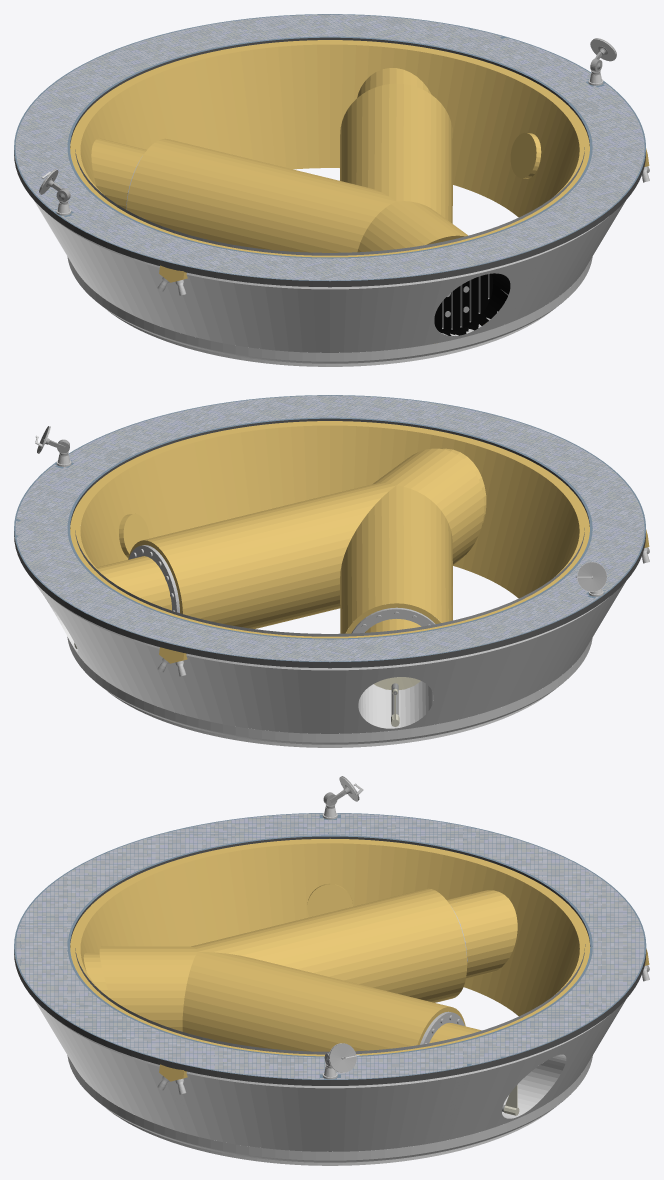
File: laser-interferometer-space-antenna-lisa.glb
3 views of the same model, one above another, from view 1: azimuth 30°, elevation 25°; view 2: azimuth 150°, elevation 25°; view 3: azimuth 270°, elevation 25° (orthographic).
Parts seen in each view (by area): view 1: Layer_0; view 2: Layer_0; view 3: Layer_0.
Part boxes in pixels (x1=…): Layer_0: x1=14, y1=14, x2=649, y2=366; Layer_0: x1=14, y1=395, x2=649, y2=747; Layer_0: x1=14, y1=776, x2=649, y2=1165.
Bounding box in the file's own units: 2.59 × 0.6509 × 2.49.
